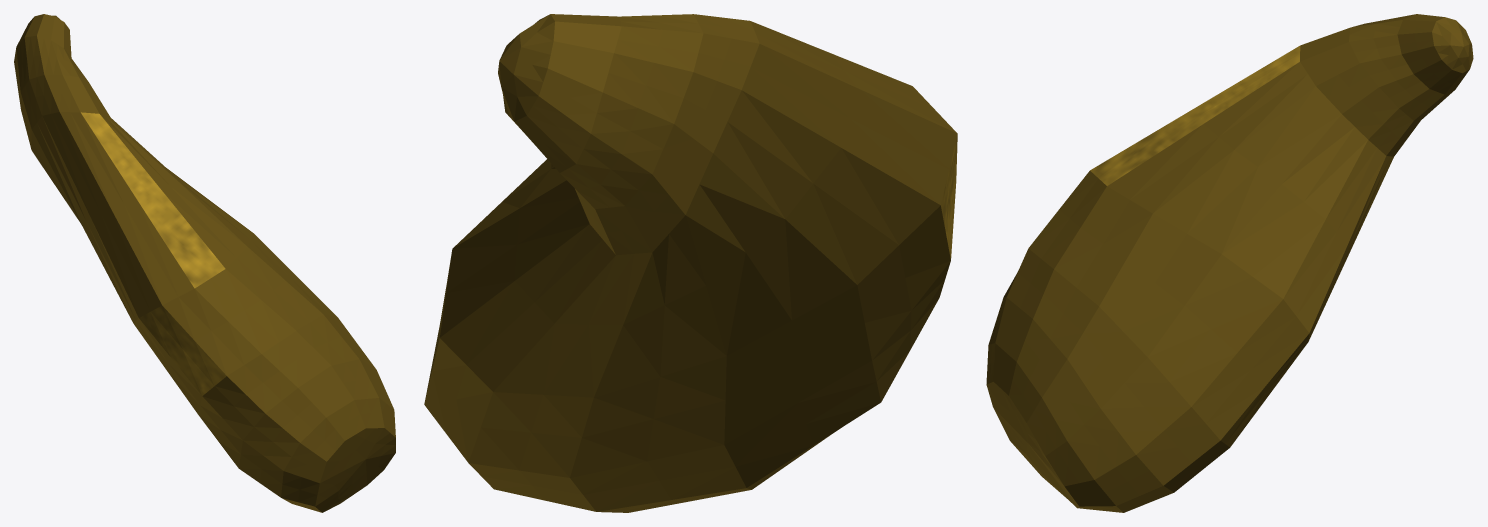
The model's file is gallbladder_related.obj.
The picture shows the model from 3 angles, left to right: view 1: azimuth 30°, elevation 25°; view 2: azimuth 150°, elevation 25°; view 3: azimuth 270°, elevation 25°; orthographic projection. The views are drawn at different scales.
Parts seen in each view (by area): view 1: gallbladder_related_gallbladder.000; view 2: gallbladder_related_gallbladder.000; view 3: gallbladder_related_gallbladder.000.
Part boxes in pixels (x1=…): gallbladder_related_gallbladder.000: x1=14, y1=14, x2=395, y2=512; gallbladder_related_gallbladder.000: x1=424, y1=14, x2=957, y2=512; gallbladder_related_gallbladder.000: x1=986, y1=14, x2=1473, y2=512.
Size of the model in its own units: 2.64 by 4.14 by 4.34.
